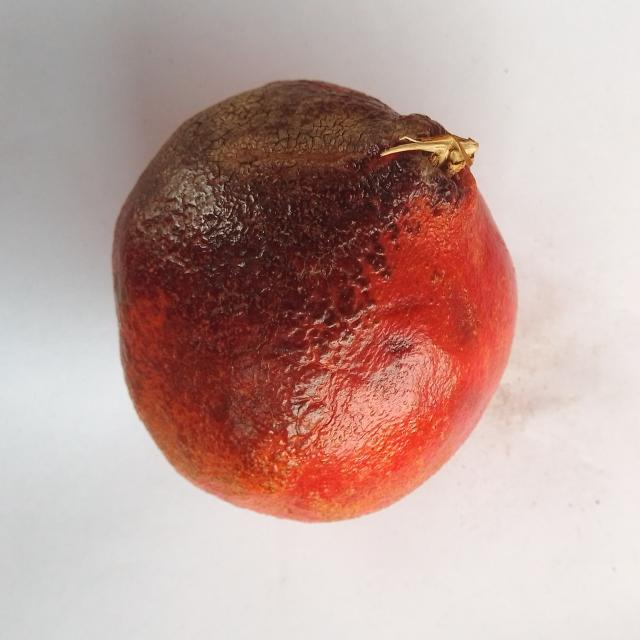overripe: (108, 76, 522, 526)
